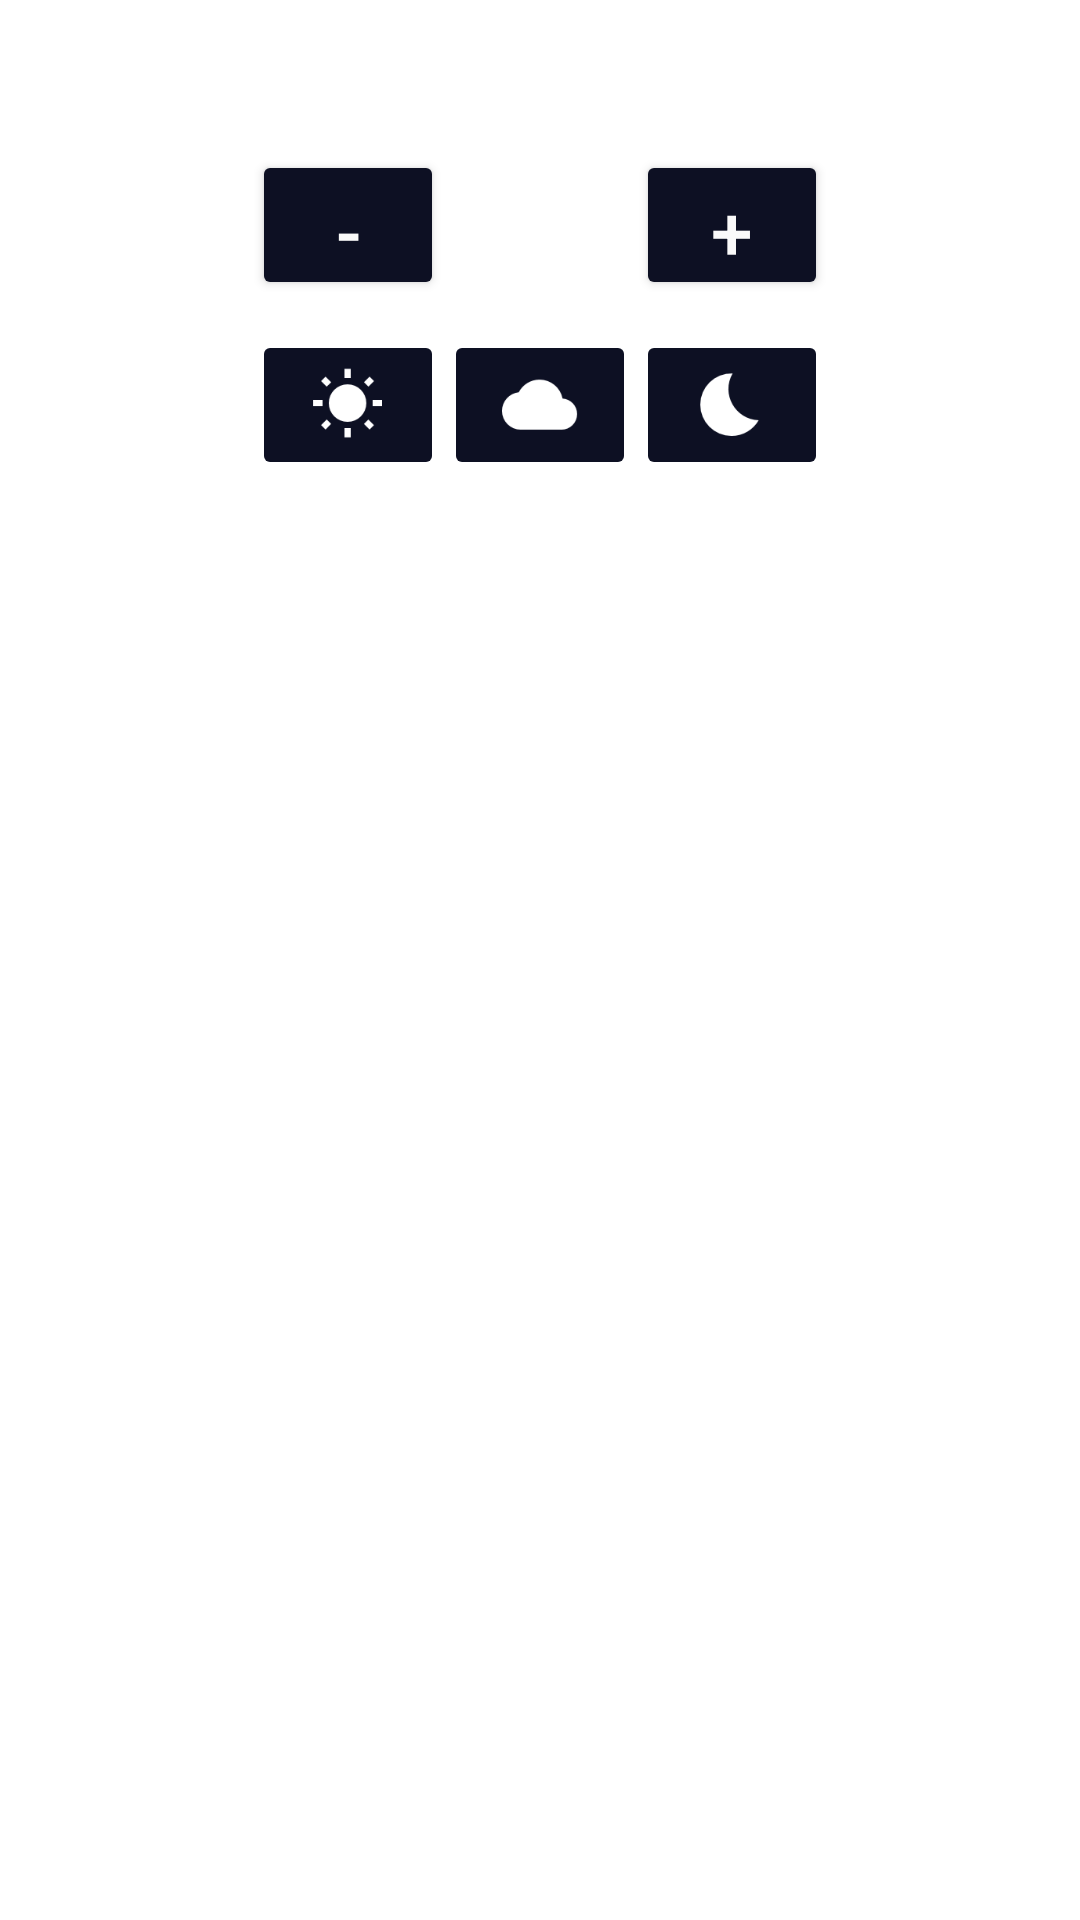

Icon bounding boxes for this 1080w x 1920h phone screenshot, format {"left": x1, "top": y1, "right": x2, "bottom": y2}:
cloud: {"left": 456, "top": 348, "right": 624, "bottom": 462}
moon: {"left": 648, "top": 348, "right": 816, "bottom": 462}
sun: {"left": 264, "top": 348, "right": 432, "bottom": 462}
